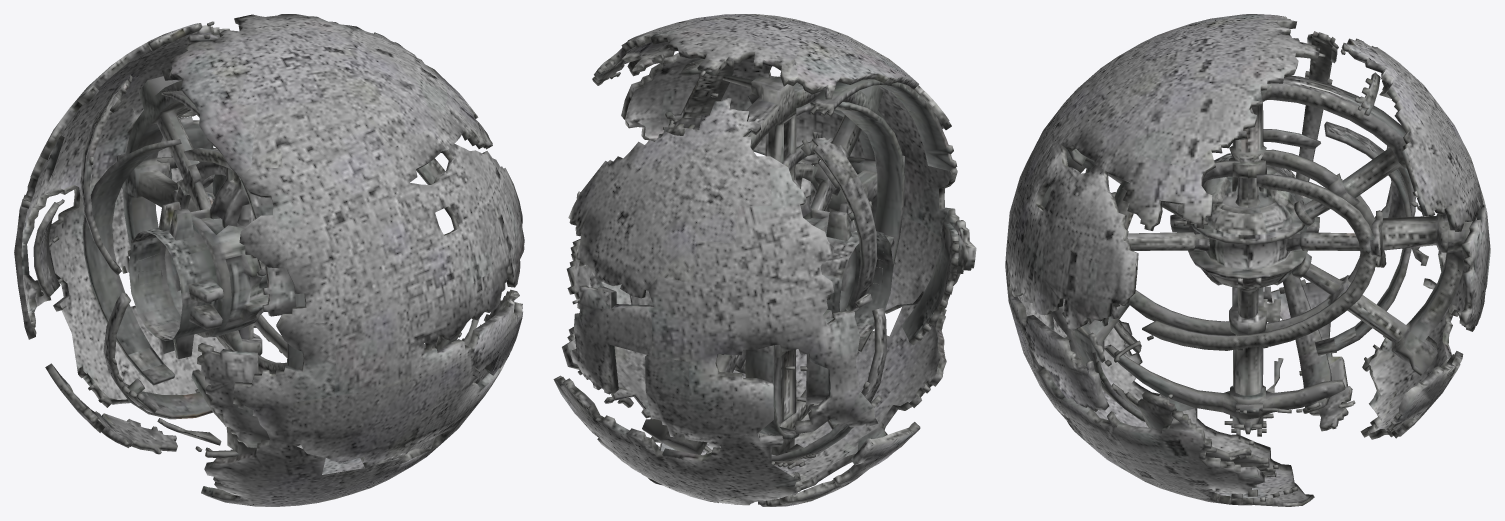
Rendered from monument_fragmented_dyson_sphere.glb.
The picture shows the model from 3 angles, left to right: view 1: azimuth 30°, elevation 25°; view 2: azimuth 150°, elevation 25°; view 3: azimuth 270°, elevation 25°; orthographic projection.
Parts seen in each view (by area): view 1: tripo_node_90828db2-532a-48dc-99ab-a6074d82e74c; view 2: tripo_node_90828db2-532a-48dc-99ab-a6074d82e74c; view 3: tripo_node_90828db2-532a-48dc-99ab-a6074d82e74c.
Boxes of the visible parts, x1,y1,x2,y2 form: tripo_node_90828db2-532a-48dc-99ab-a6074d82e74c: (14, 14, 524, 506); tripo_node_90828db2-532a-48dc-99ab-a6074d82e74c: (553, 14, 976, 506); tripo_node_90828db2-532a-48dc-99ab-a6074d82e74c: (1005, 14, 1490, 506).
Bounding box in the file's own units: 0.9283 × 0.9995 × 0.9985.
1 material, 1 textured.
